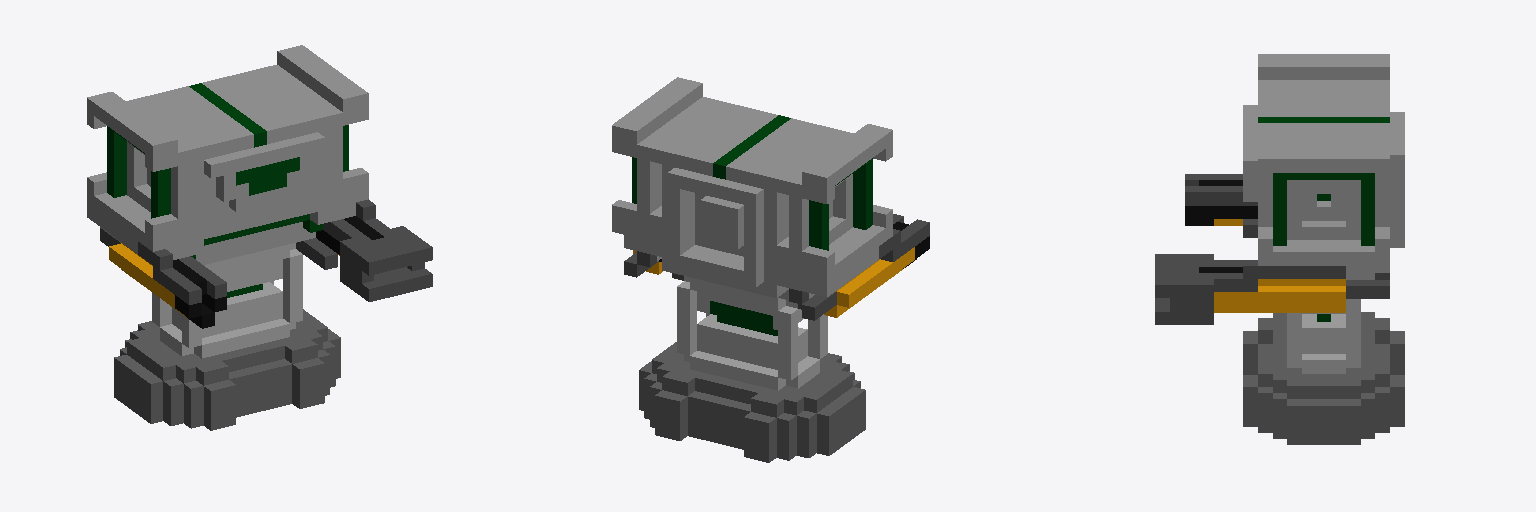
3 renders of one model, left to right at view 1: azimuth 30°, elevation 25°; view 2: azimuth 150°, elevation 25°; view 3: azimuth 270°, elevation 25°, orthographic.
Parts seen in each view (by area): view 1: scoutMech; view 2: scoutMech; view 3: scoutMech.
Part boxes in pixels (x1,y1,x2,y2): scoutMech: (87, 45, 432, 430); scoutMech: (612, 77, 929, 462); scoutMech: (1155, 54, 1404, 444).
Size of the model in its own units: 1.8 by 2.2 by 1.7.
1 materials, 1 textured.